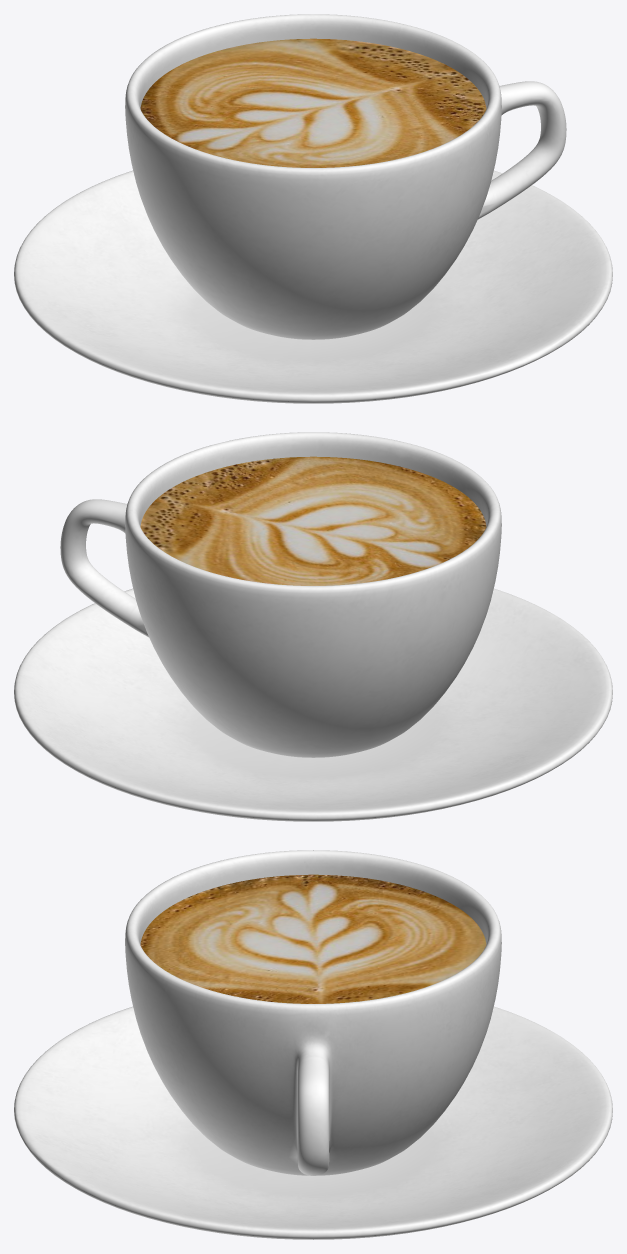
The picture shows the model from 3 angles, top to bottom: view 1: azimuth 30°, elevation 25°; view 2: azimuth 150°, elevation 25°; view 3: azimuth 270°, elevation 25°; orthographic projection.
Parts seen in each view (by area): view 1: Coffee_Cup; view 2: Coffee_Cup; view 3: Coffee_Cup.
Part boxes in pixels (x1=…): Coffee_Cup: x1=14, y1=14, x2=612, y2=403; Coffee_Cup: x1=14, y1=432, x2=612, y2=821; Coffee_Cup: x1=14, y1=850, x2=612, y2=1239.
Bounding box in the file's own units: 0.12 × 0.0514 × 0.12.
1 material, 1 textured.
